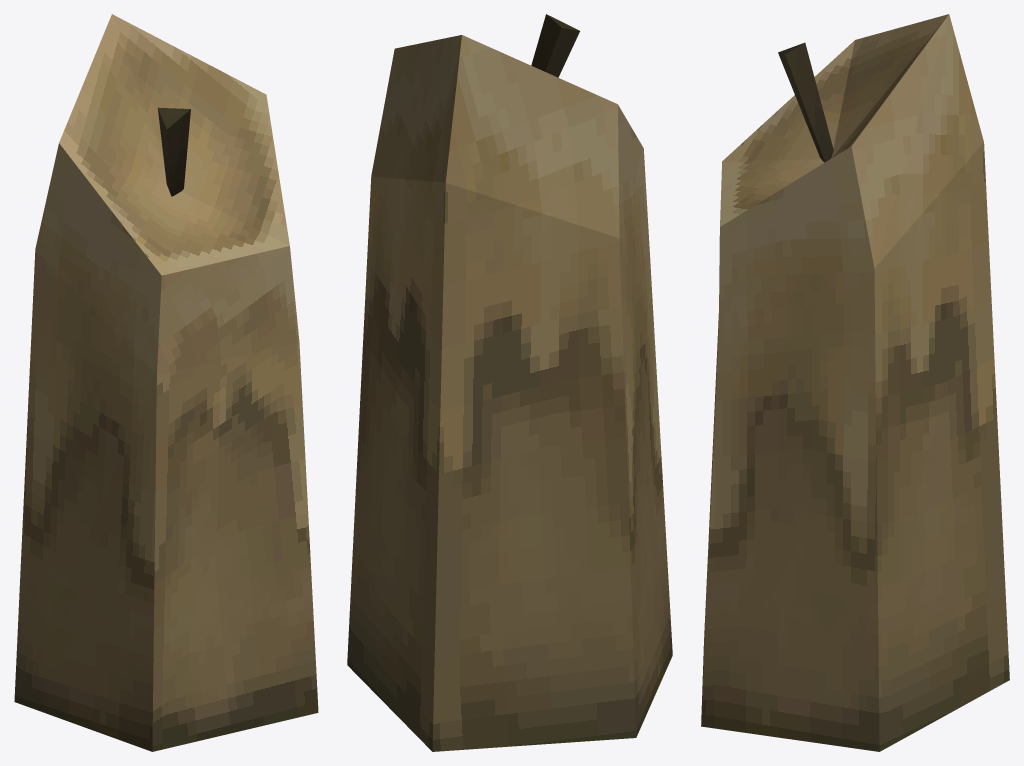
File: candle_01.fbx
3 views of the same model, side by side, from view 1: azimuth 30°, elevation 25°; view 2: azimuth 150°, elevation 25°; view 3: azimuth 270°, elevation 25° (orthographic). The views are drawn at different scales.
Visible parts, largest first — view 1: obj0.526; view 2: obj0.526; view 3: obj0.526.
Boxes of the visible parts, box(x1,y1,x2,y2) form: obj0.526: box(14, 14, 318, 751); obj0.526: box(347, 14, 672, 751); obj0.526: box(701, 14, 1009, 751).
Bounding box in the file's own units: 0.3975 × 0.9036 × 0.3791.
